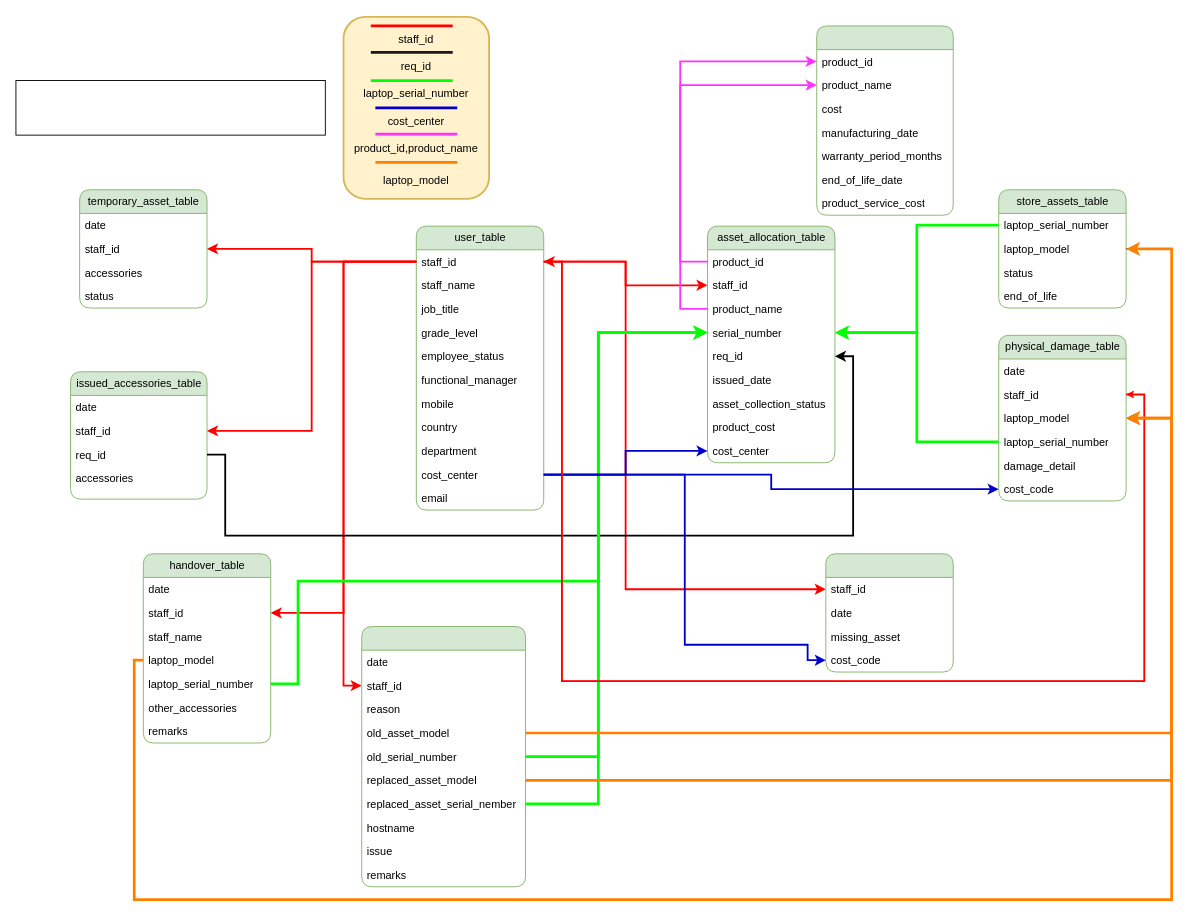
Image size: 1196x924. Some labels were removed from this diagram. The shapes that lost their labels are listed below. From the top down, each one's box as (x1, y1, x2, y2) in pixels, then its label:
(15, 80, 325, 135): Data Integration Model
(816, 25, 953, 215): assets_master_table
(825, 553, 953, 672): missing_asset_table
(361, 626, 526, 887): breakfix_table
